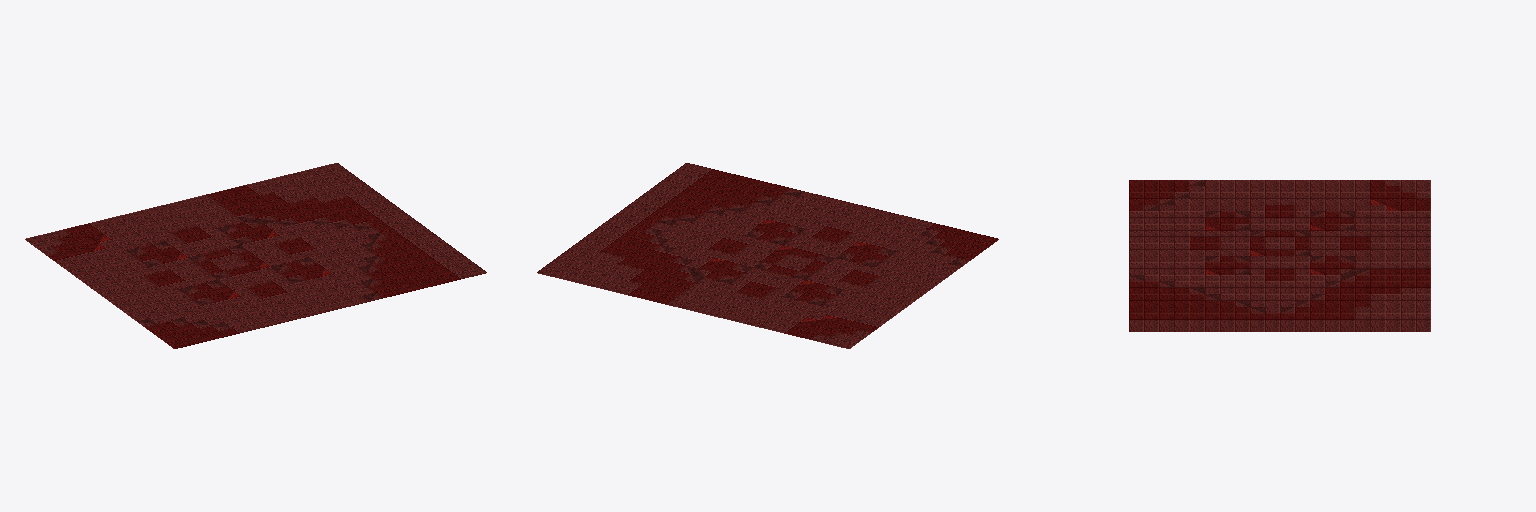
3 views of the same model, side by side, from view 1: azimuth 30°, elevation 25°; view 2: azimuth 150°, elevation 25°; view 3: azimuth 270°, elevation 25° (orthographic).
Visible parts, largest first — view 1: FloorSide_4; view 2: FloorSide_4; view 3: FloorSide_4.
Part boxes in pixels (x1,y1,x2,y2): FloorSide_4: (25,163,486,348); FloorSide_4: (537,163,998,348); FloorSide_4: (1129,180,1430,331).
Bounding box in the file's own units: 24 × 0 × 20.
Materials: 6 (6 with a texture image).